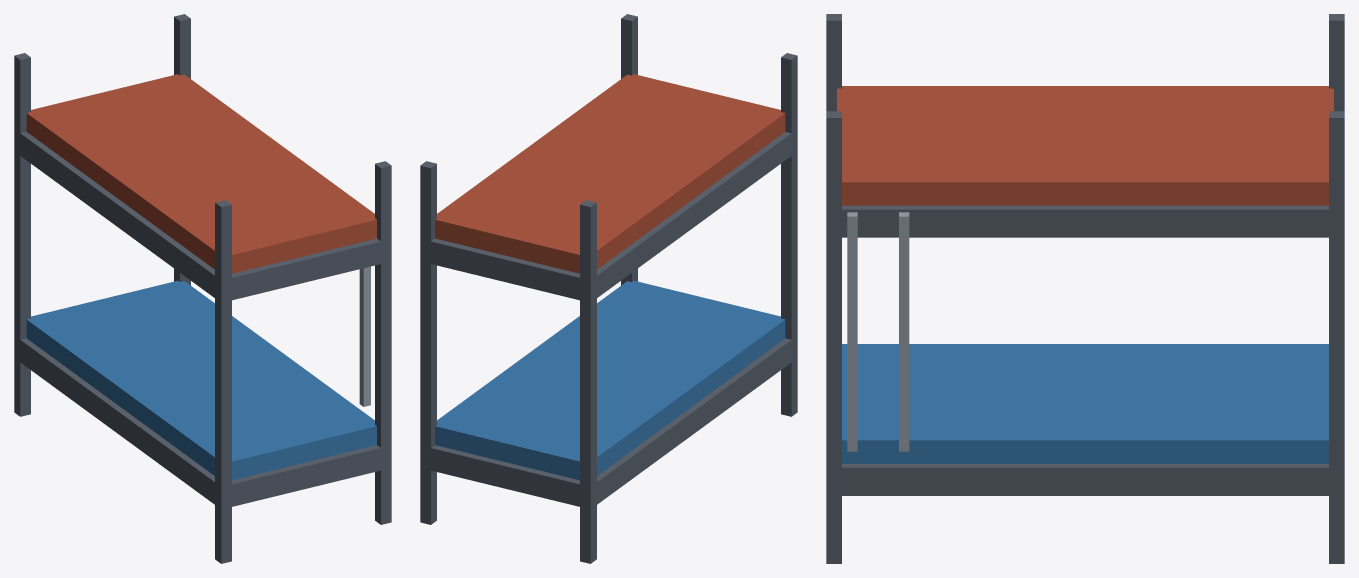
Rendered from bunkBed.glb.
3 renders of one model, left to right at view 1: azimuth 30°, elevation 25°; view 2: azimuth 150°, elevation 25°; view 3: azimuth 270°, elevation 25°, orthographic. The views are drawn at different scales.
Parts seen in each view (by area): view 1: bunkBed-5b6470, bunkBed-b0553c, bunkBed-3c7bb0, bunkBed-9aa3ad; view 2: bunkBed-5b6470, bunkBed-b0553c, bunkBed-3c7bb0; view 3: bunkBed-b0553c, bunkBed-3c7bb0, bunkBed-5b6470, bunkBed-9aa3ad.
Part boxes in pixels (x1,y1,x2,y2): bunkBed-5b6470: (14,14,391,563); bunkBed-b0553c: (26,74,376,273); bunkBed-3c7bb0: (26,280,376,480); bunkBed-9aa3ad: (359,266,370,406); bunkBed-5b6470: (420,14,797,563); bunkBed-b0553c: (435,74,785,273); bunkBed-3c7bb0: (435,280,785,480); bunkBed-b0553c: (837,86,1333,205); bunkBed-3c7bb0: (842,344,1328,463); bunkBed-5b6470: (826,14,1344,563); bunkBed-9aa3ad: (847,212,909,451).
Size of the model in its own units: 0.995 by 1.9 by 2.
